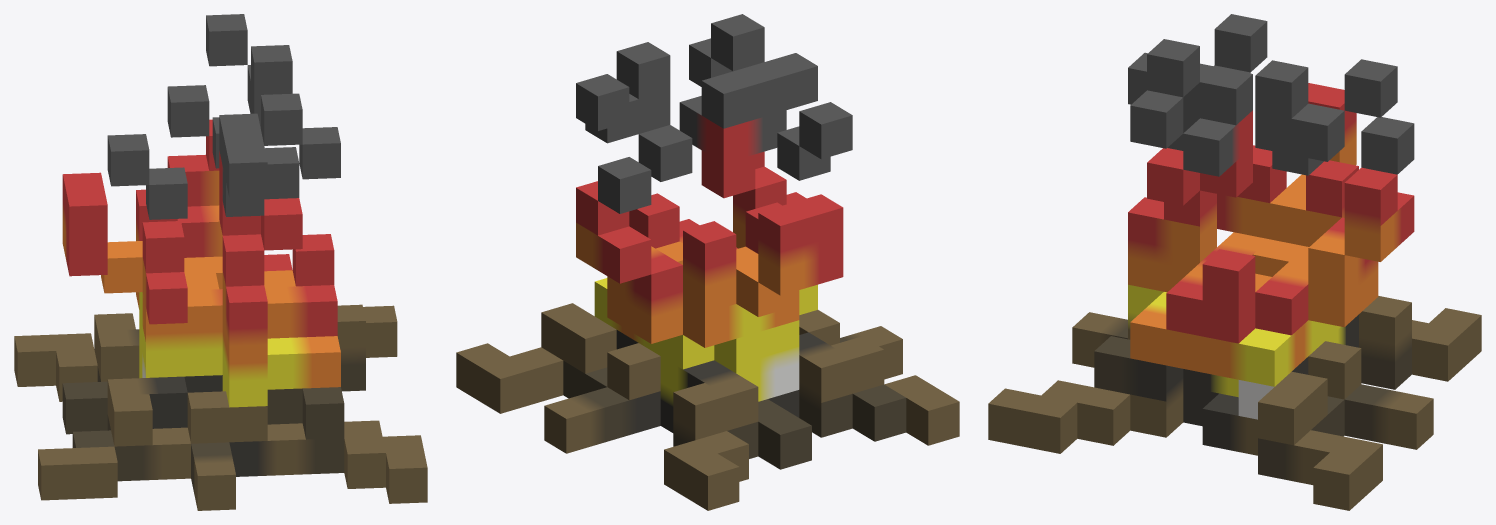
File: wizard_CampFire.fbx
3 views of the same model, side by side, from view 1: azimuth 30°, elevation 25°; view 2: azimuth 150°, elevation 25°; view 3: azimuth 270°, elevation 25° (orthographic). The views are drawn at different scales.
Parts seen in each view (by area): view 1: Matrix.001; view 2: Matrix.001; view 3: Matrix.001.
Boxes of the visible parts, x1=… form: Matrix.001: x1=14, y1=14, x2=427, y2=510; Matrix.001: x1=456, y1=14, x2=959, y2=510; Matrix.001: x1=988, y1=14, x2=1481, y2=510.
Bounding box in the file's own units: 12.87 × 10 × 12.38.
Materials: 1 (1 with a texture image).
